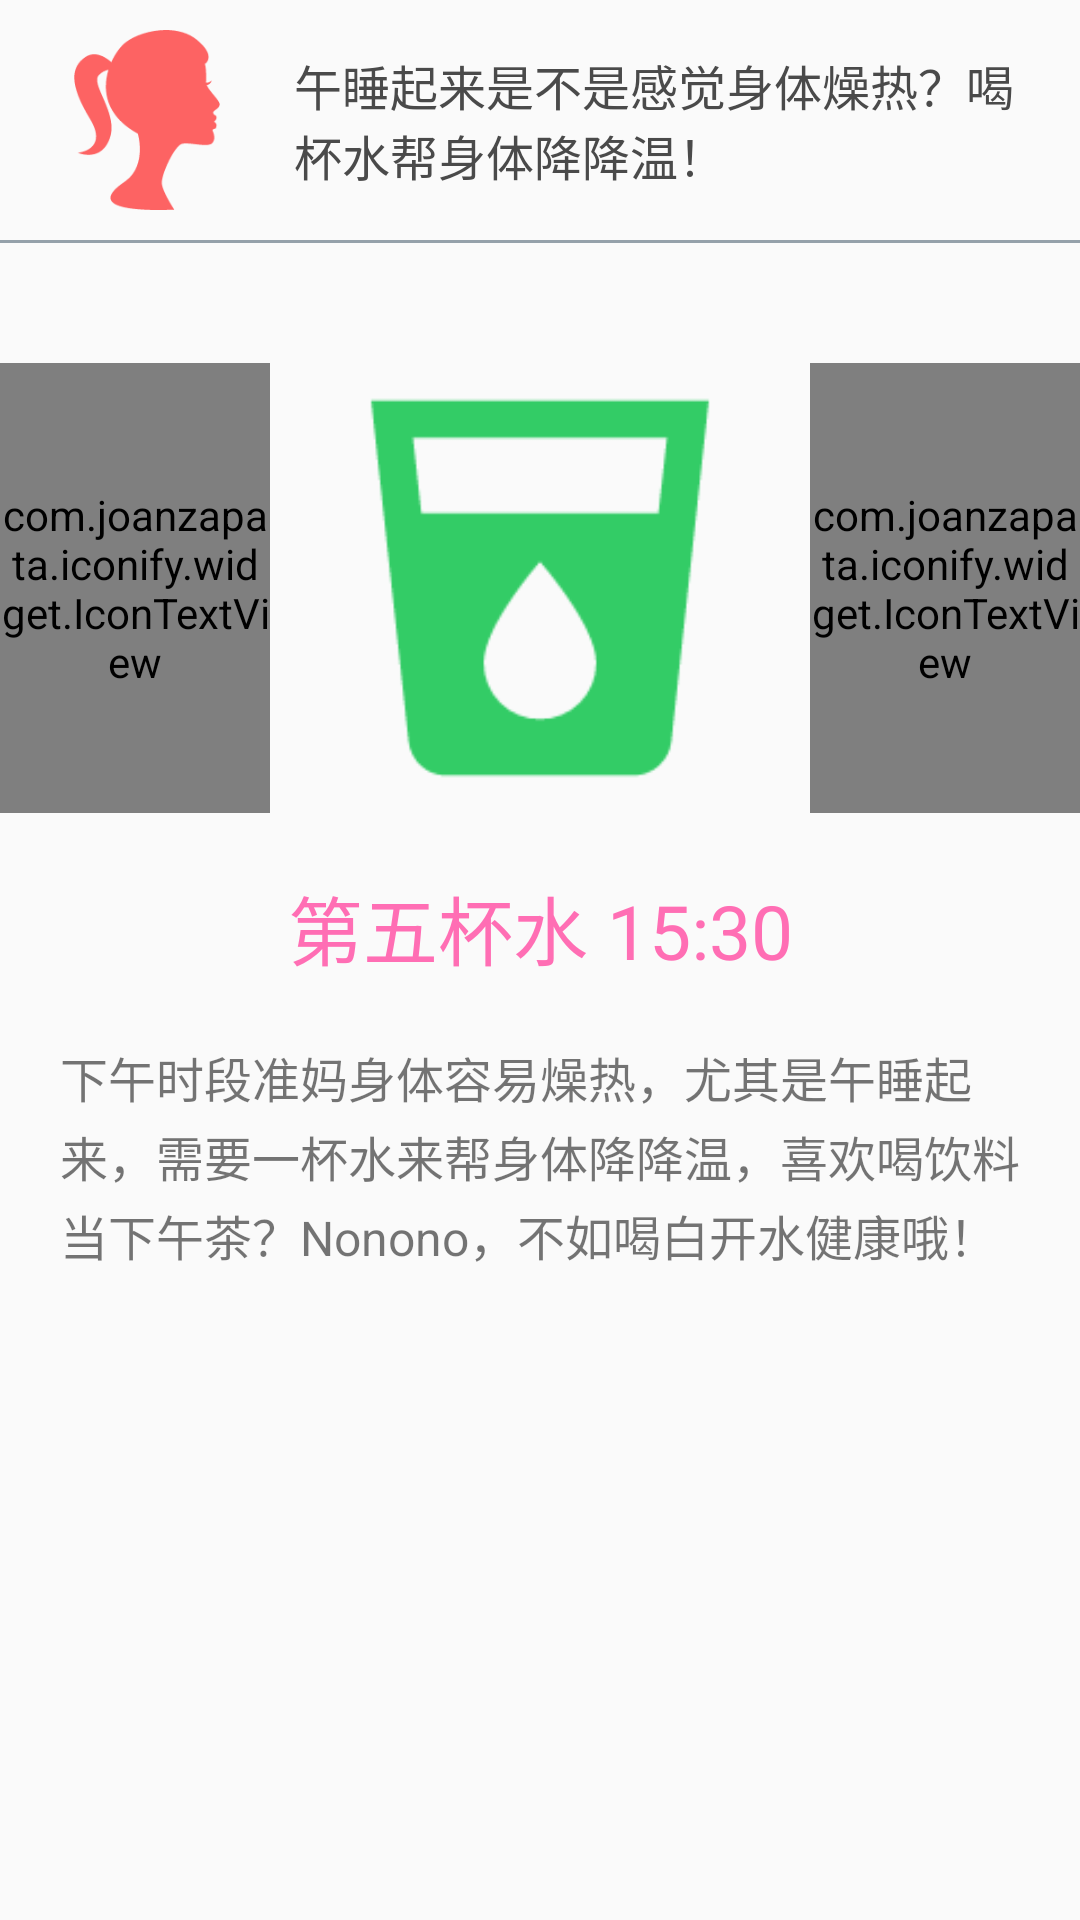

Locate icon controls on the screen. Image size 1080×1920, boxes as (x1, y1, x2, y2).
girl: (74, 30, 220, 210)
